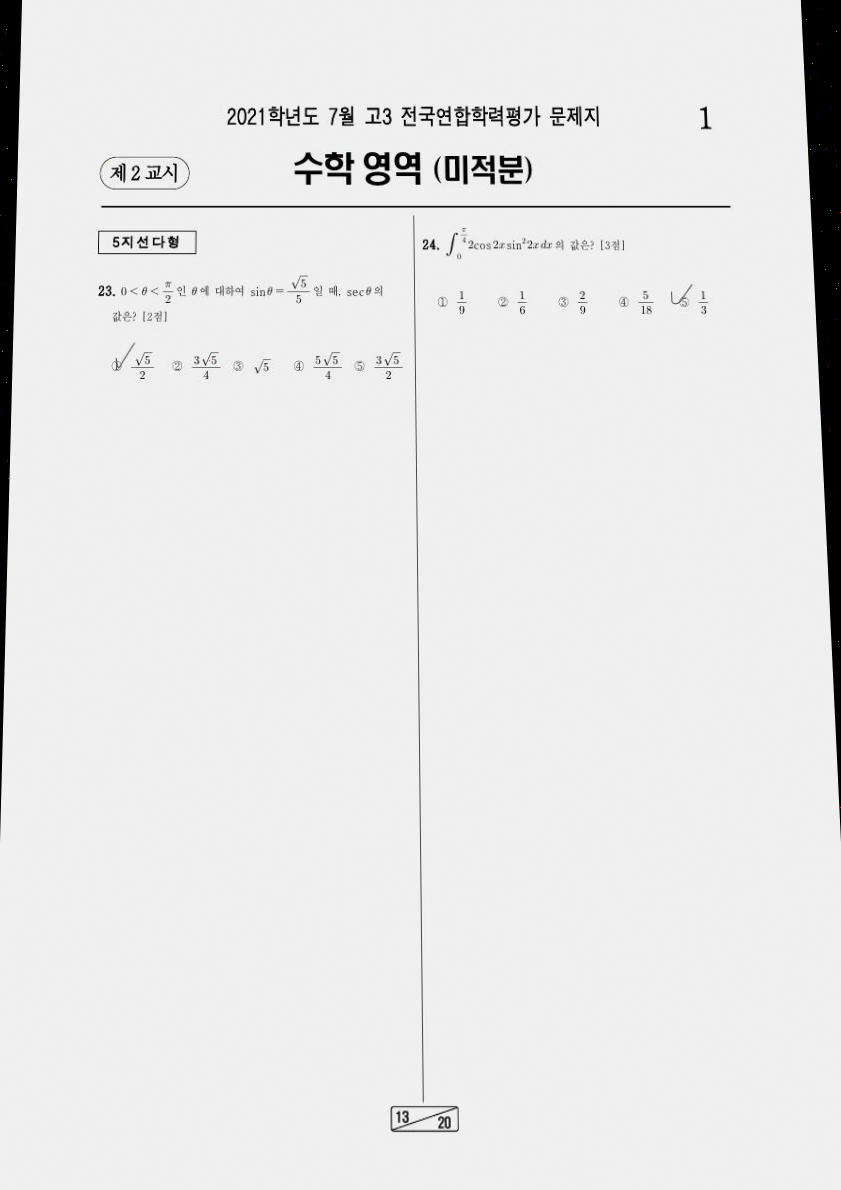question: (86, 270, 408, 391), (415, 217, 721, 334)
